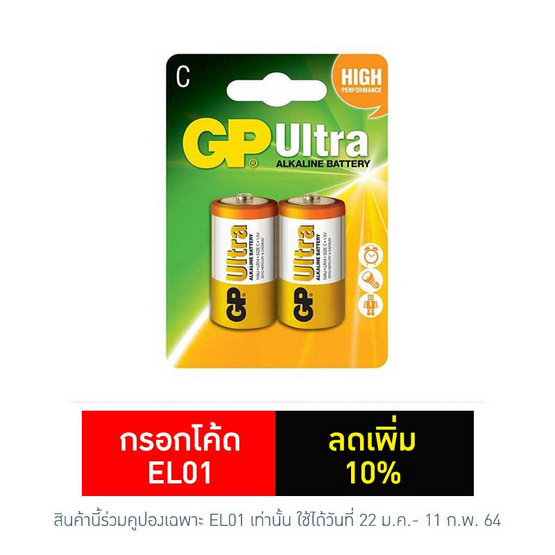Battery: (278, 190, 348, 334), (208, 192, 279, 332)
